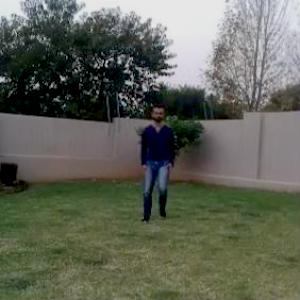follow: (140, 101, 174, 221)
